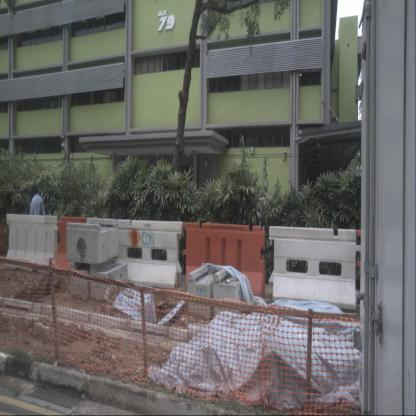human-pedestrian-adult: (30, 182, 46, 258)
movable_object-barrier: (268, 227, 358, 312), (85, 217, 183, 290), (183, 223, 266, 296), (5, 214, 58, 271), (54, 216, 98, 274)
